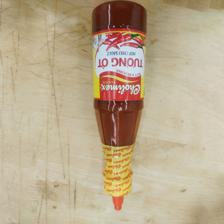Tuong: (90, 1, 149, 211)
